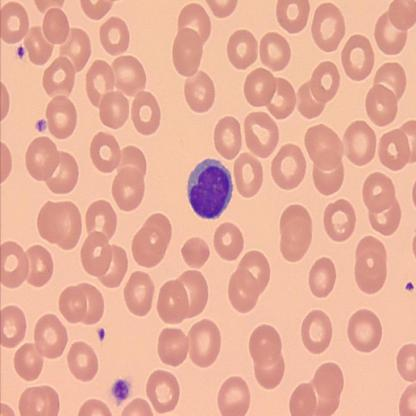Lymphocyte: (186, 156, 233, 221)
